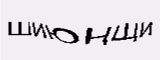Д: (88, 12, 108, 37)
М: (37, 10, 64, 31)
П: (65, 10, 76, 32)
Х: (105, 8, 129, 31)
Ю: (74, 9, 90, 29)
